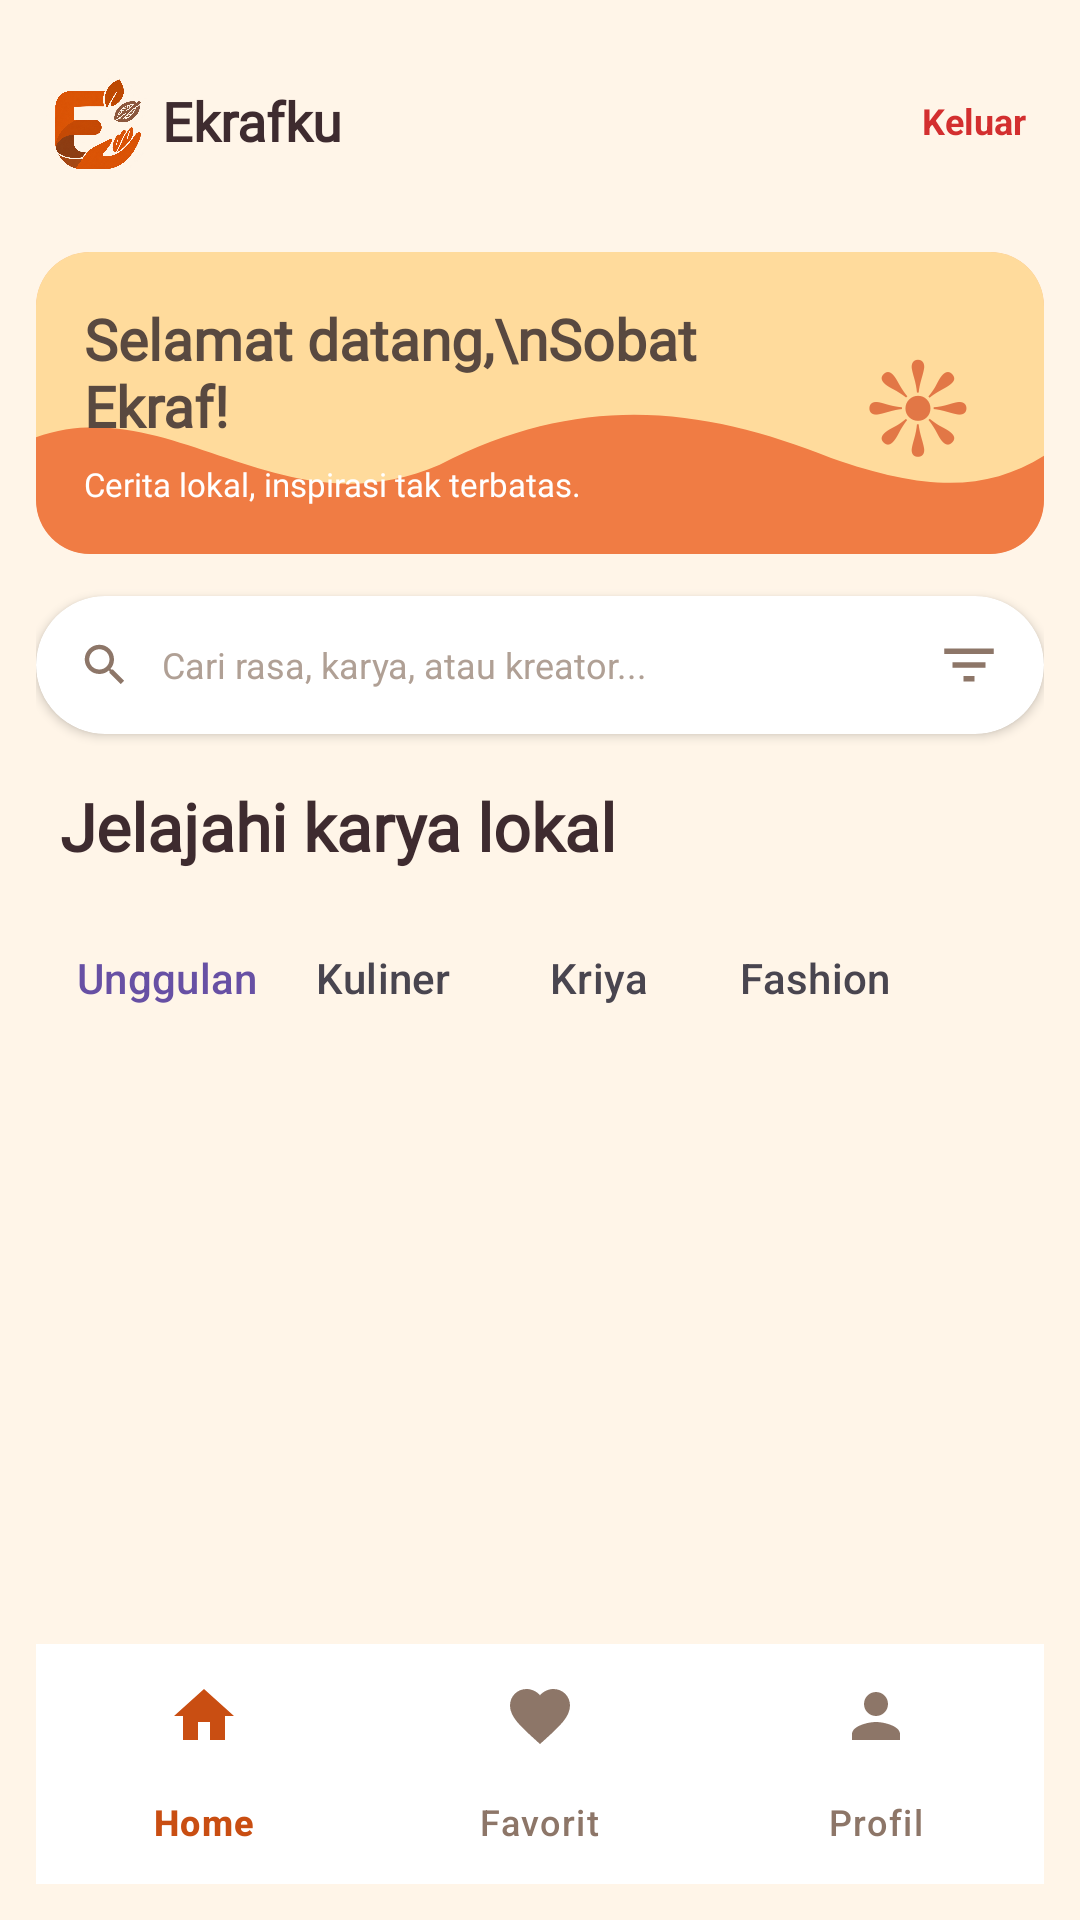

Where icons sit on this 1080×1920 app screen, as (left=x1, top=y1, right=x2, bottom=y2):
Filter: (left=944, top=648, right=994, bottom=682)
